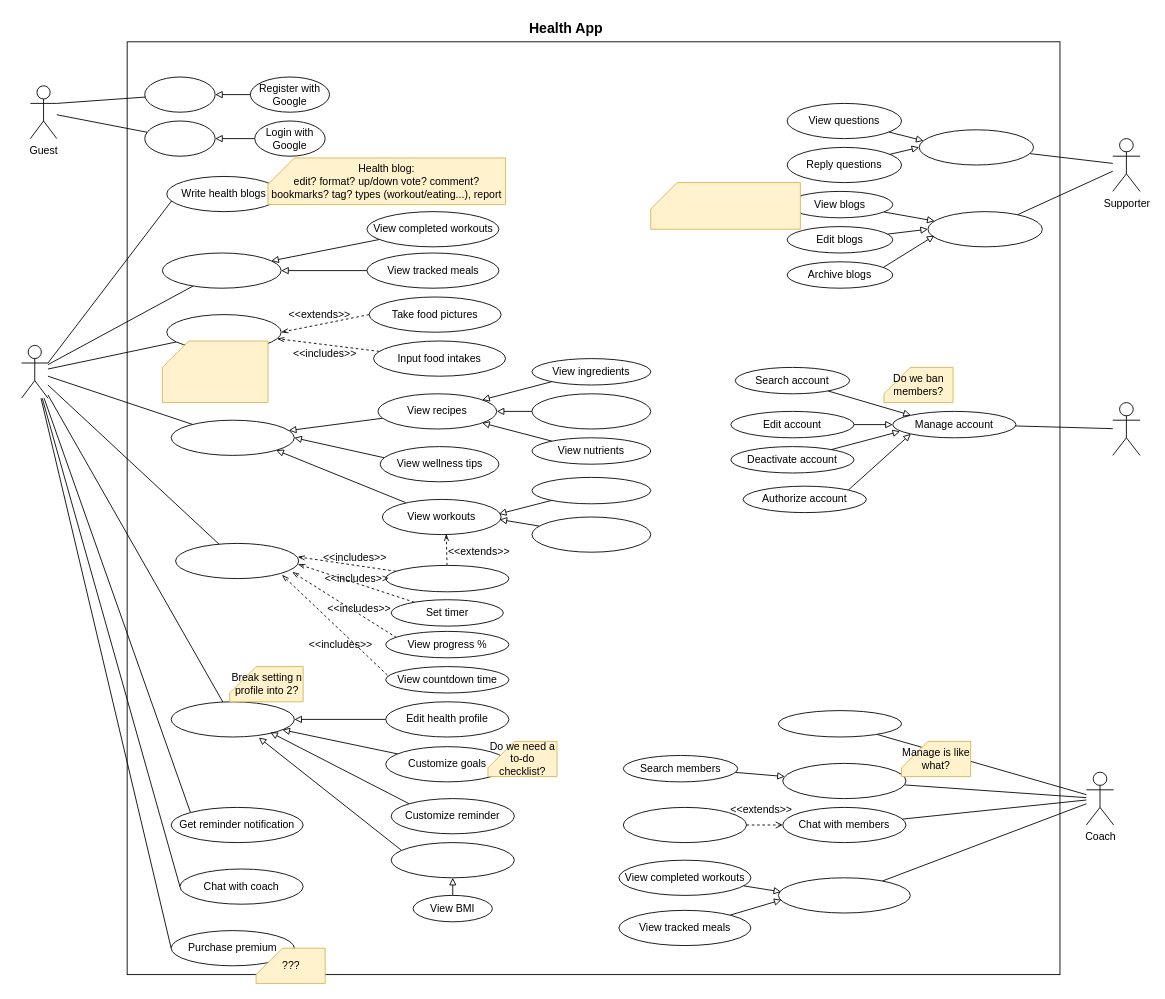
This 1165x999 diagram has some shape labels left out. Here are the shapes that lost their labels. From the top down, the centre of each, then its label:
At (179,94): "Register".
At (179,138): "Login".
At (976,147): "Answer questions".
At (725,205): "Do blogs have to go thru reviews before posting?".
At (984,229): "Manage blogs".
At (221,270): "View health history".
At (223,332): "Track portions".
At (34,371): "Member".
At (214,371): "I removed the calories tracking (between meal - workout), but we can include it".
At (591,411): "View cooking steps".
At (1126,428): "Admin".
At (232,437): "View health blogs".
At (591,490): "View guidance".
At (591,534): "View calories burn/Intensity".
At (237,561): "Count down exercise time".
At (447,578): "Select workouts".
At (232,719): "Manage settings/profile".
At (839,723): "Report member".
At (844,781): "Manage member list".
At (684,825): "Choose formatted replies".
At (452,860): "View health profile".
At (843,895): "Track members' progress".
